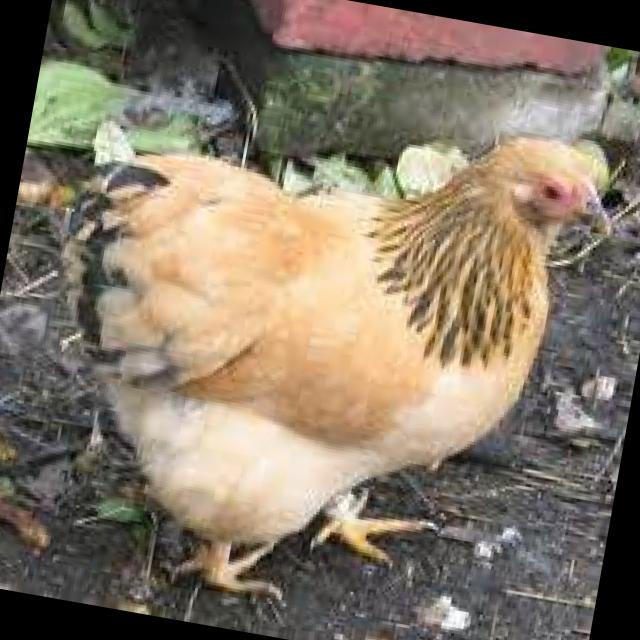animal: (4, 49, 625, 640)
